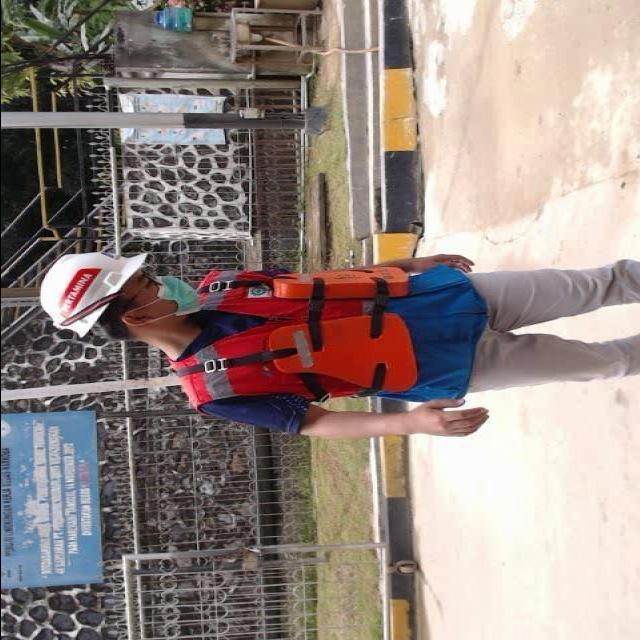jacket: (162, 255, 420, 421)
